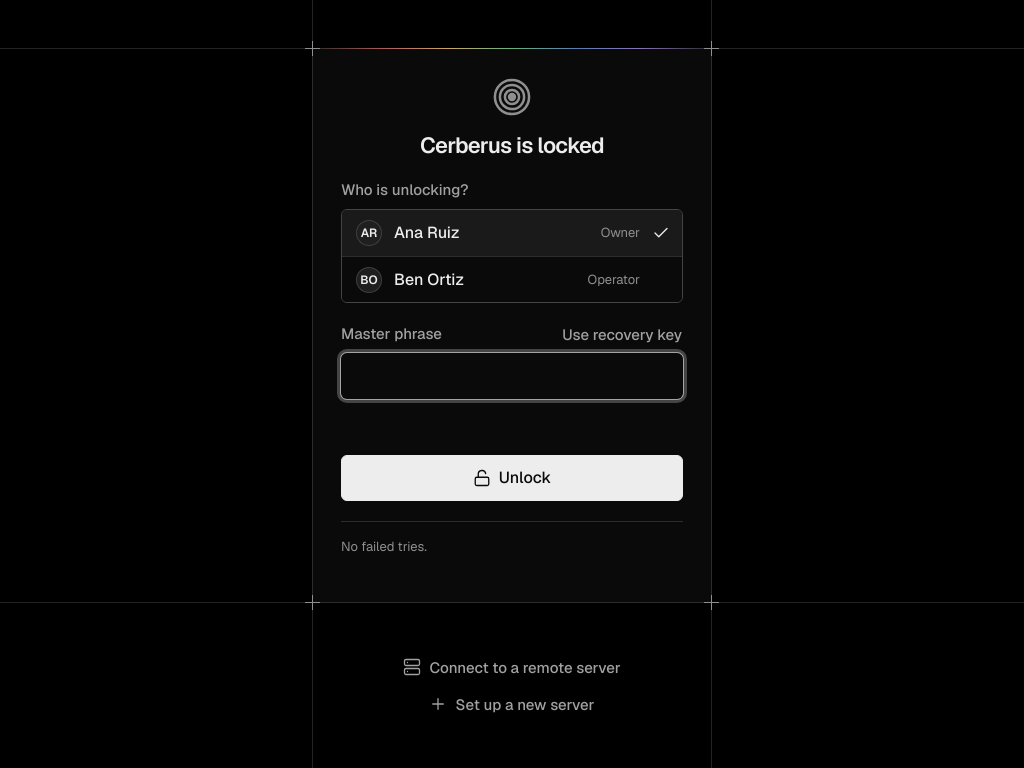
Test: unlock › counts a wrong phrase, clears the field and says which slot failed
This screenshot has width=1024, height=768.
Type "not the right phrase" into the password field labelled "Master phrase".
click(512, 376); type("not the right phrase")  # box top-left (341, 353), bottom-right (683, 399)
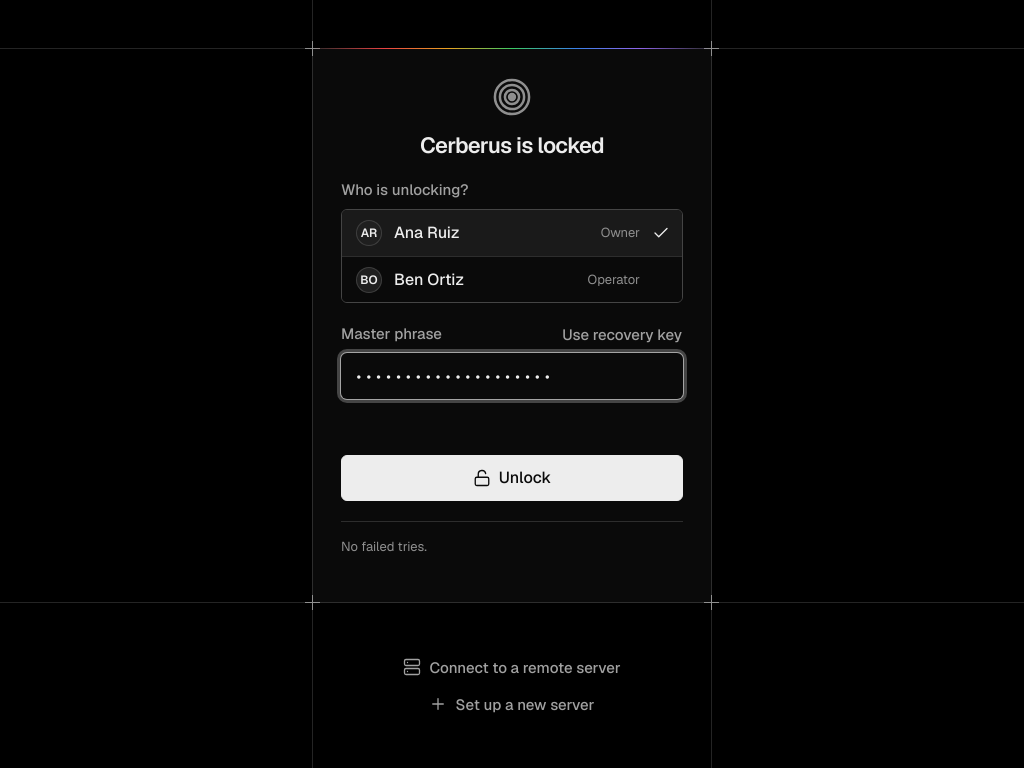
Click the button "Unlock".
click(512, 478)  # box top-left (341, 455), bottom-right (683, 501)
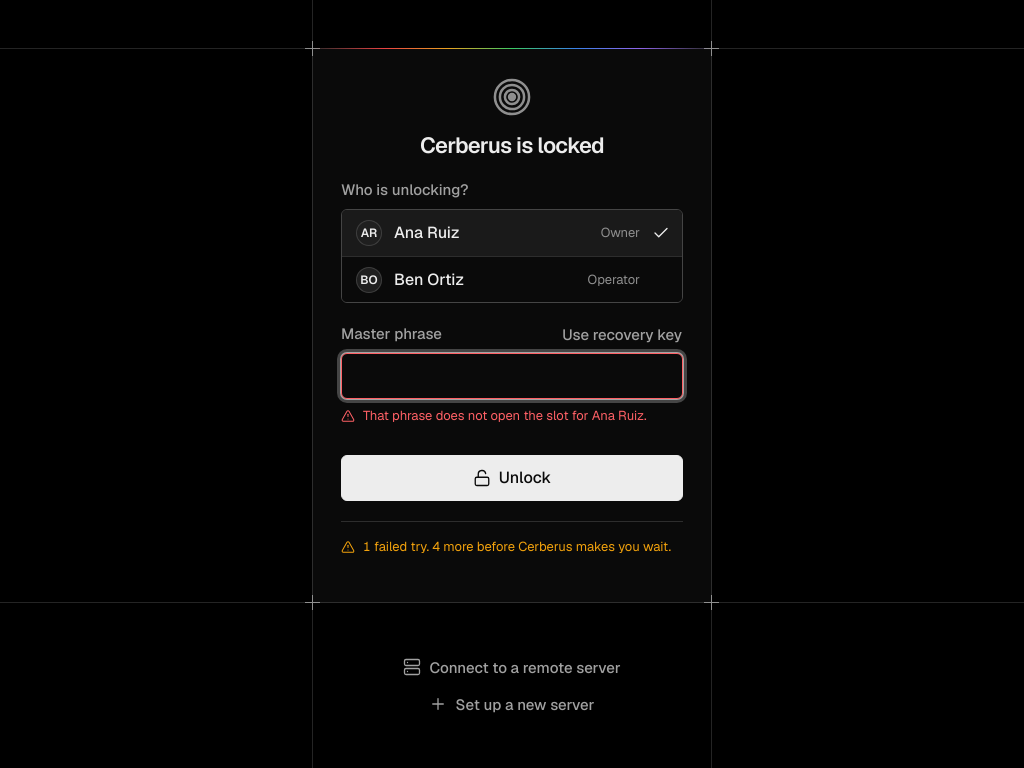
Result: the text "That phrase does not open the slot for Ana Ruiz." is shown at top-left (341, 407), bottom-right (683, 425)
Result: the text "1 failed try. 4 more before Cerberus makes you wait." is shown at top-left (341, 538), bottom-right (683, 556)
Result: the password field labelled "Master phrase" is empty at top-left (341, 353), bottom-right (683, 399)
